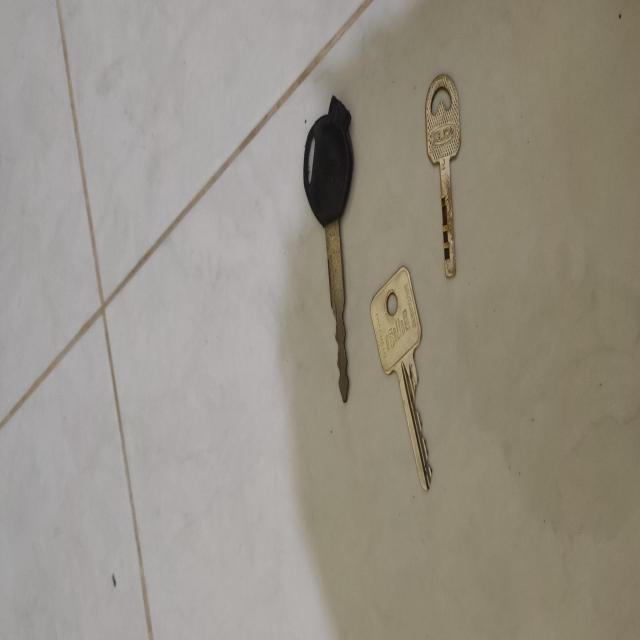kunci_kos: (370, 265, 438, 501)
kunci_motor: (301, 90, 358, 412)
kunci_pagar: (422, 65, 463, 292)
